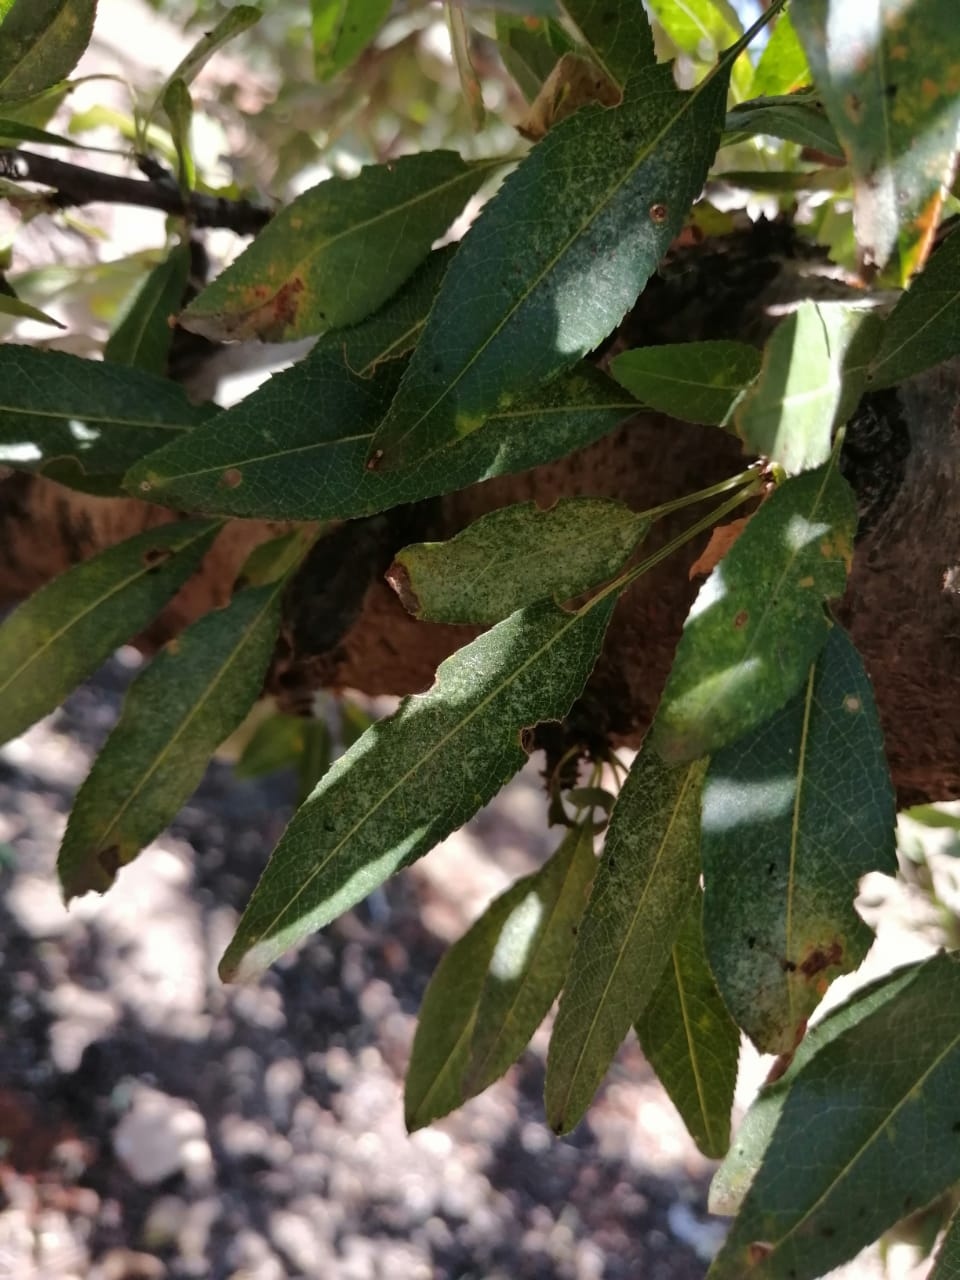acariens: (213, 580, 632, 990), (367, 50, 736, 484), (695, 619, 899, 1060), (55, 577, 278, 913), (541, 726, 701, 1137), (379, 495, 645, 630)
